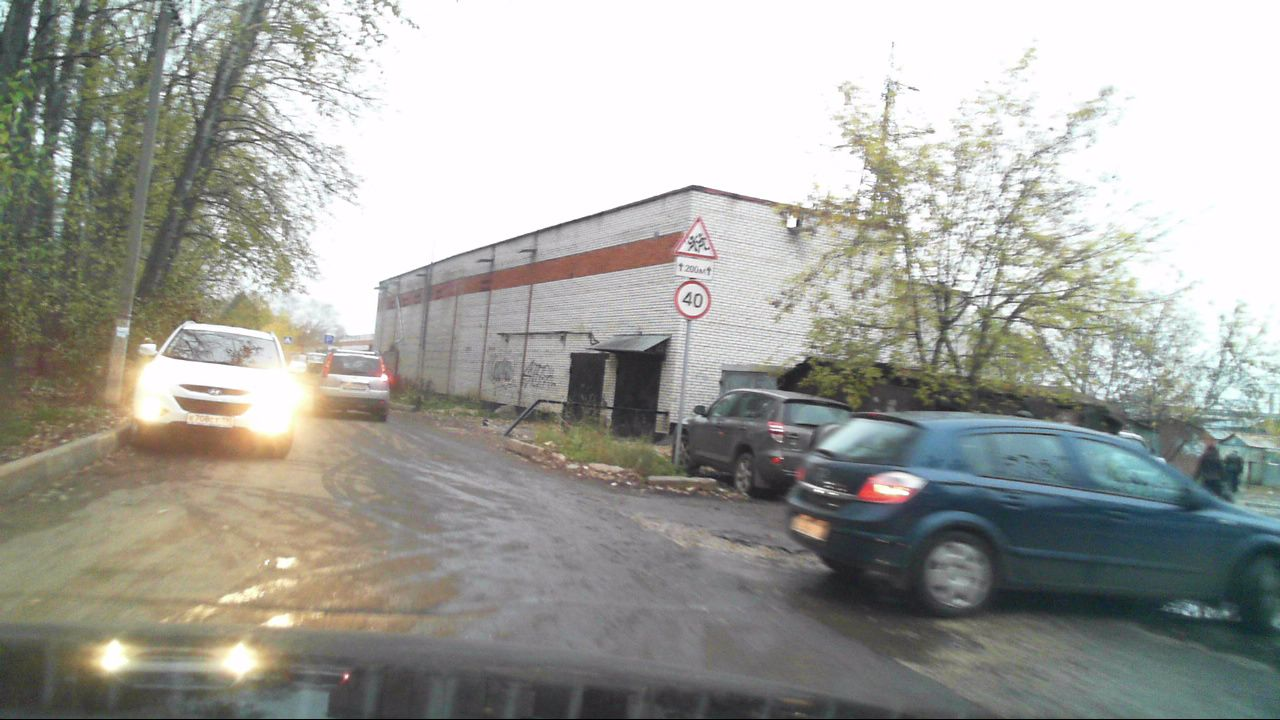speed_warning_40: (674, 281, 709, 320)
